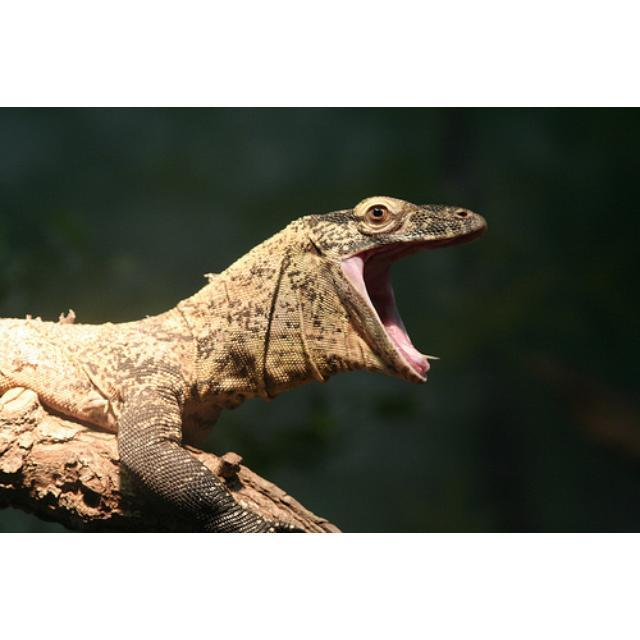KomodoDragon: (0, 190, 488, 531)
